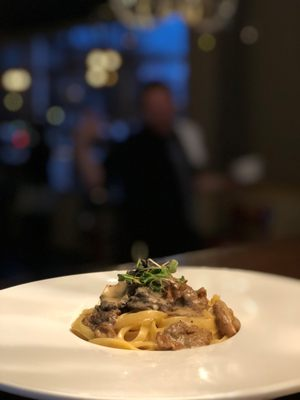curry: (0, 251, 299, 399)
sandwich: (70, 259, 245, 351)
